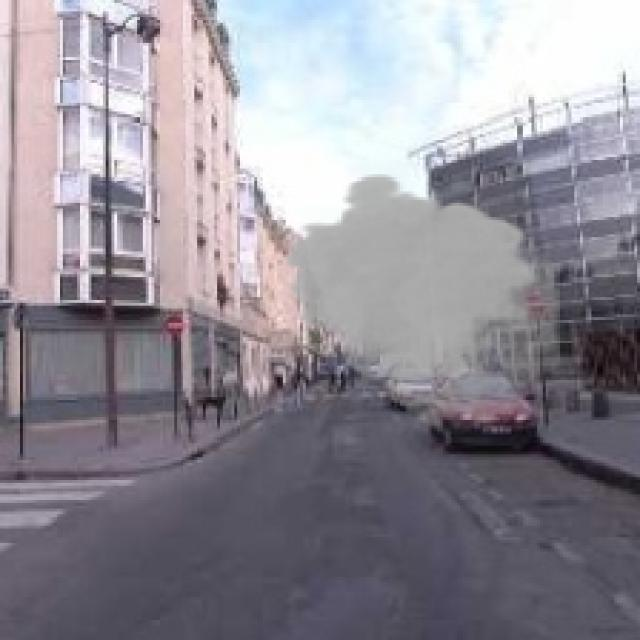Smoke: (280, 172, 560, 438)
